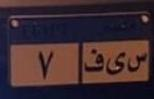7: (38, 49, 55, 81)
faa: (83, 47, 104, 76)
seen: (126, 51, 147, 73)
yaa: (105, 52, 126, 77)
